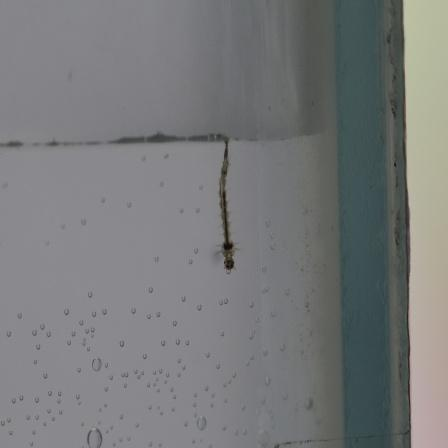Jentik-Nyamuk: (217, 138, 243, 277)
